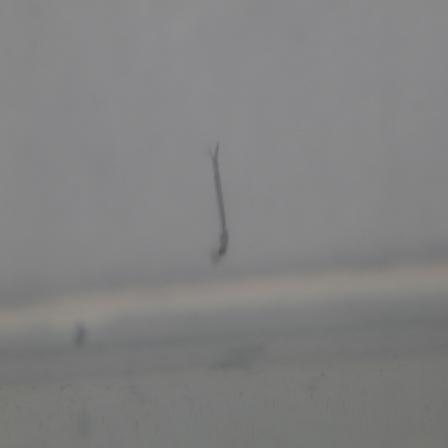Jentik-Nyamuk: (203, 139, 233, 258)
